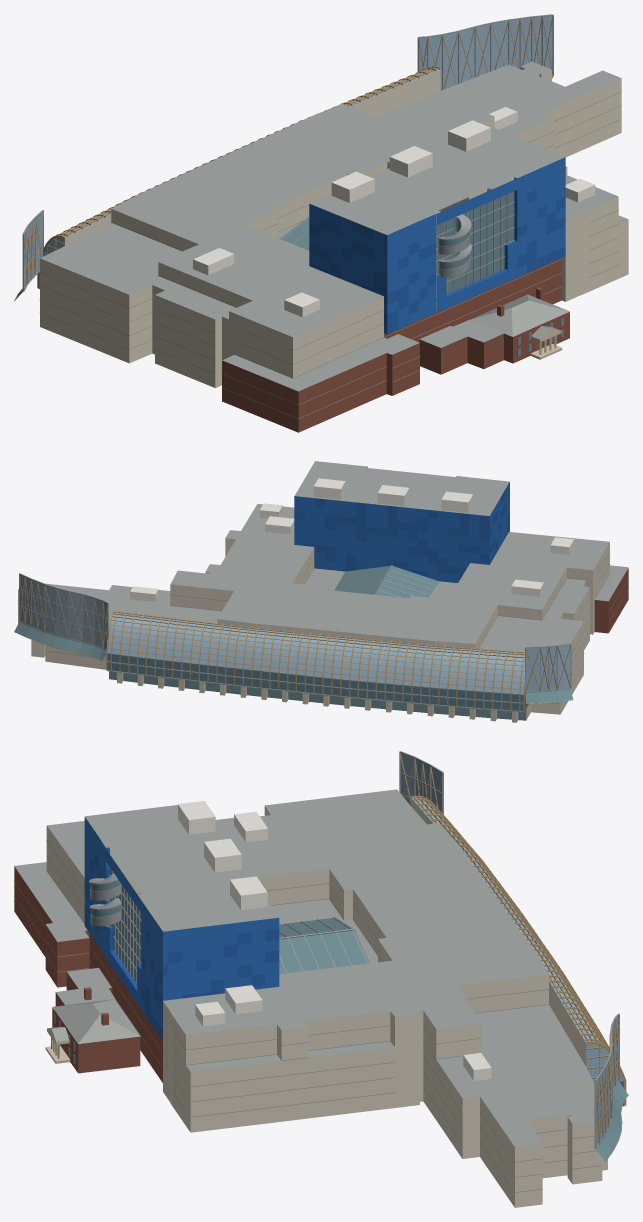
Rendered from art-gallery-of-ontario-near.glb.
The picture shows the model from 3 angles, top to bottom: view 1: azimuth 30°, elevation 25°; view 2: azimuth 150°, elevation 25°; view 3: azimuth 270°, elevation 25°; orthographic projection. The views are drawn at different scales.
Visible parts, largest first — view 1: art-gallery-of-ontario-0-roof, art-gallery-of-ontario-0-precast, art-gallery-of-ontario-0-brick, art-gallery-of-ontario-0-titanium, art-gallery-of-ontario-0-glow, art-gallery-of-ontario-0-paint, art-gallery-of-ontario-0-titaniumDeep, art-gallery-of-ontario-0-glass, art-gallery-of-ontario-0-metal, art-gallery-of-ontario-0-timber; view 2: art-gallery-of-ontario-0-roof, art-gallery-of-ontario-0-glow, art-gallery-of-ontario-0-timber, art-gallery-of-ontario-0-titanium, art-gallery-of-ontario-0-precast, art-gallery-of-ontario-0-glass, art-gallery-of-ontario-0-light, art-gallery-of-ontario-0-titaniumDeep, art-gallery-of-ontario-0-metal, art-gallery-of-ontario-0-paint, art-gallery-of-ontario-0-stone, art-gallery-of-ontario-0-brick; view 3: art-gallery-of-ontario-0-roof, art-gallery-of-ontario-0-precast, art-gallery-of-ontario-0-titanium, art-gallery-of-ontario-0-brick, art-gallery-of-ontario-0-glass, art-gallery-of-ontario-0-paint, art-gallery-of-ontario-0-timber, art-gallery-of-ontario-0-metal, art-gallery-of-ontario-0-glow, art-gallery-of-ontario-0-titaniumDeep.
Part boxes in pixels (left/top/right/bottom): art-gallery-of-ontario-0-roof: left=39, top=61, right=628, bottom=418; art-gallery-of-ontario-0-precast: left=40, top=66, right=628, bottom=387; art-gallery-of-ontario-0-brick: left=222, top=258, right=569, bottom=432; art-gallery-of-ontario-0-titanium: left=309, top=157, right=565, bottom=333; art-gallery-of-ontario-0-glow: left=24, top=16, right=552, bottom=288; art-gallery-of-ontario-0-paint: left=193, top=107, right=595, bottom=317; art-gallery-of-ontario-0-titaniumDeep: left=309, top=190, right=565, bottom=333; art-gallery-of-ontario-0-glass: left=15, top=191, right=563, bottom=356; art-gallery-of-ontario-0-metal: left=14, top=14, right=553, bottom=301; art-gallery-of-ontario-0-timber: left=22, top=15, right=553, bottom=291; art-gallery-of-ontario-0-roof: left=18, top=461, right=628, bottom=703; art-gallery-of-ontario-0-glow: left=19, top=575, right=570, bottom=693; art-gallery-of-ontario-0-timber: left=19, top=574, right=571, bottom=711; art-gallery-of-ontario-0-titanium: left=294, top=467, right=509, bottom=582; art-gallery-of-ontario-0-precast: left=18, top=538, right=609, bottom=714; art-gallery-of-ontario-0-glass: left=14, top=566, right=572, bottom=720; art-gallery-of-ontario-0-light: left=107, top=654, right=528, bottom=711; art-gallery-of-ontario-0-titaniumDeep: left=294, top=482, right=509, bottom=580; art-gallery-of-ontario-0-metal: left=14, top=565, right=572, bottom=712; art-gallery-of-ontario-0-paint: left=130, top=478, right=574, bottom=601; art-gallery-of-ontario-0-stone: left=117, top=672, right=530, bottom=722; art-gallery-of-ontario-0-brick: left=594, top=568, right=628, bottom=633; art-gallery-of-ontario-0-roof: left=14, top=789, right=601, bottom=1192; art-gallery-of-ontario-0-precast: left=46, top=798, right=607, bottom=1207; art-gallery-of-ontario-0-titanium: left=84, top=817, right=279, bottom=1029; art-gallery-of-ontario-0-brick: left=14, top=866, right=162, bottom=1082; art-gallery-of-ontario-0-glass: left=54, top=868, right=628, bottom=1160; art-gallery-of-ontario-0-paint: left=110, top=801, right=491, bottom=1080; art-gallery-of-ontario-0-timber: left=400, top=753, right=626, bottom=1148; art-gallery-of-ontario-0-metal: left=89, top=751, right=628, bottom=1161; art-gallery-of-ontario-0-glow: left=400, top=753, right=623, bottom=1145; art-gallery-of-ontario-0-titaniumDeep: left=84, top=853, right=279, bottom=1040.
Bounding box in the file's own units: 180 × 41.5 × 132.
